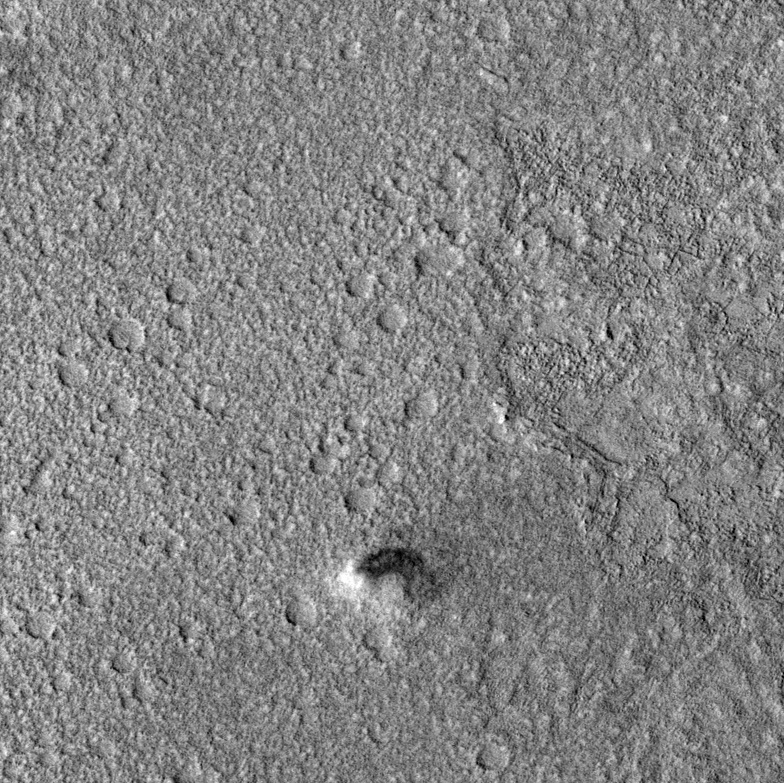dust_devil: (334, 545, 440, 616)
